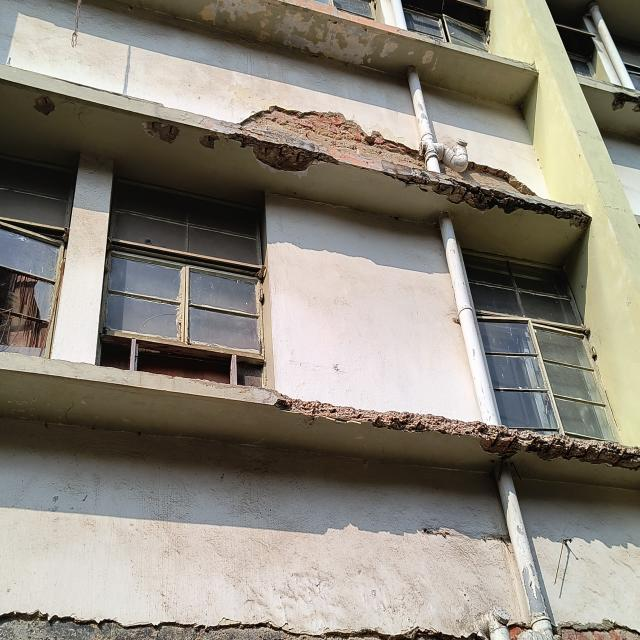peeling: (111, 0, 447, 74), (142, 120, 179, 143), (612, 92, 640, 112), (34, 96, 55, 116), (199, 135, 220, 149)
spalling: (225, 107, 589, 229), (275, 394, 640, 470)
